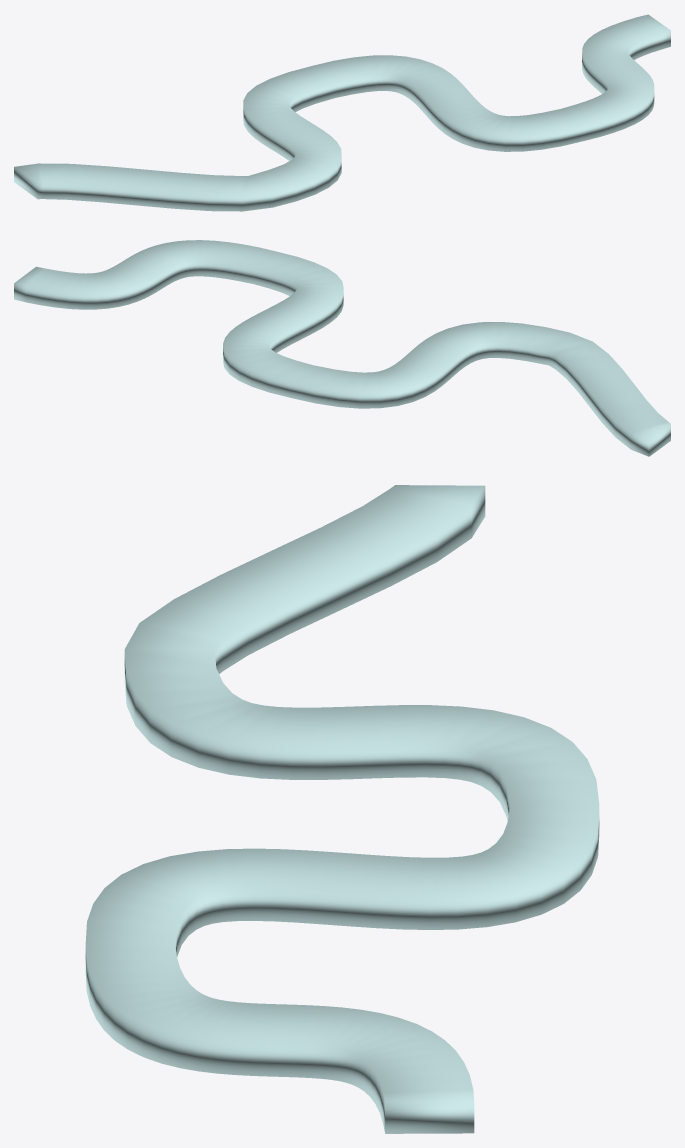
Rendered from first pt.fbx.
3 renders of one model, top to bottom at view 1: azimuth 30°, elevation 25°; view 2: azimuth 150°, elevation 25°; view 3: azimuth 270°, elevation 25°, orthographic. The views are drawn at different scales.
Visible parts, largest first — view 1: Cube.004; view 2: Cube.004; view 3: Cube.004.
Part boxes in pixels (bbox=[...]): Cube.004: bbox=[14, 14, 670, 211]; Cube.004: bbox=[14, 240, 670, 456]; Cube.004: bbox=[85, 485, 599, 1133].
Bounding box in the file's own units: 2605 × 66.71 × 916.
